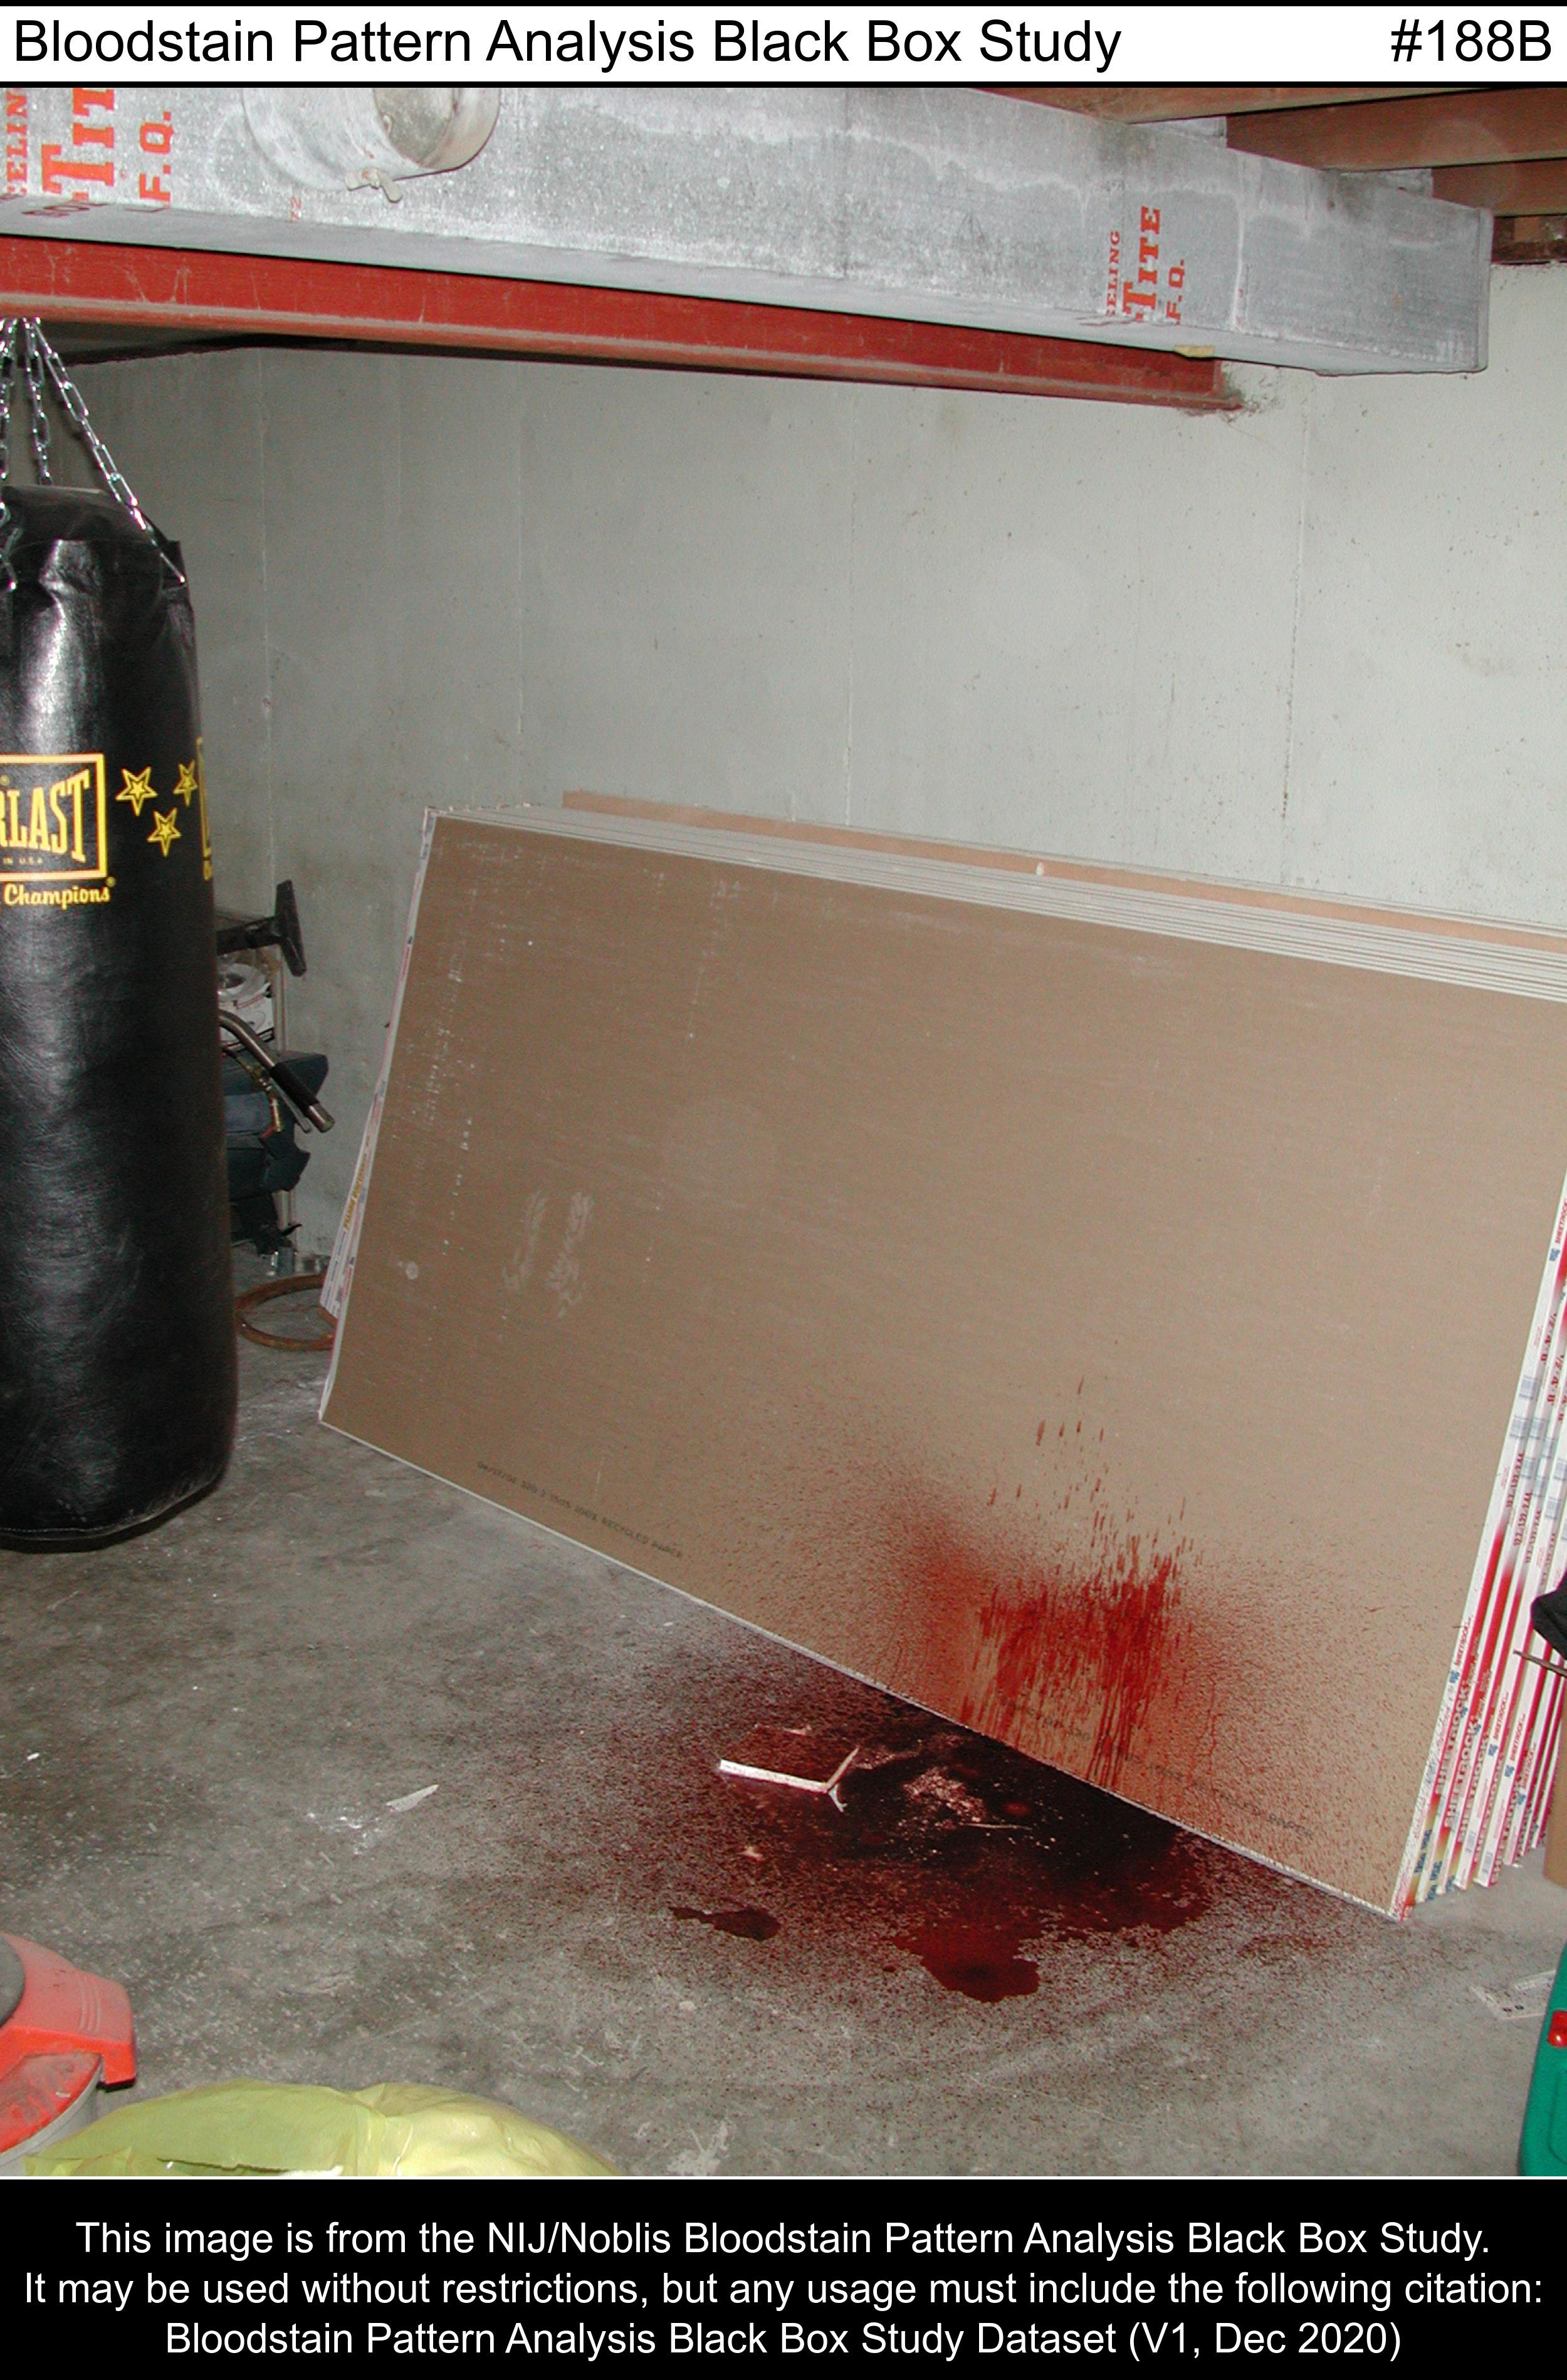Impact: (922, 1369, 1254, 1782)
Passive: (673, 1805, 1187, 1955)
